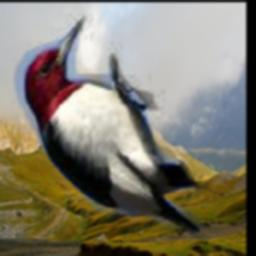Woodpecker: (13, 14, 211, 232)
